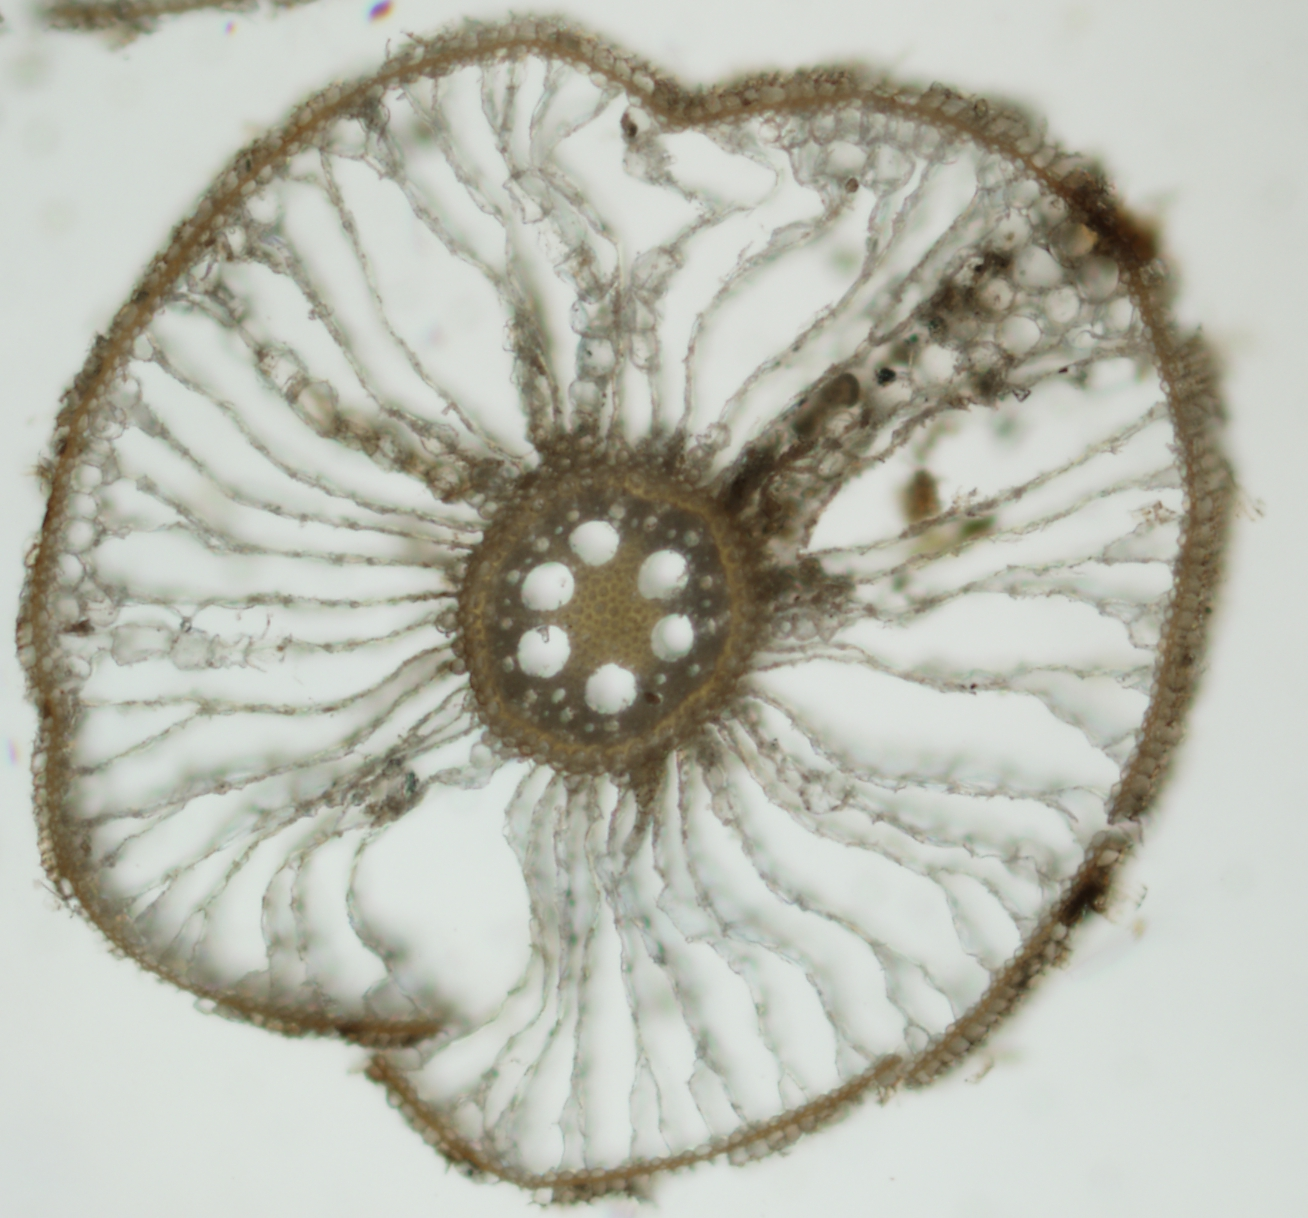lm: (517, 624, 571, 679), (584, 662, 637, 715), (637, 549, 691, 601), (520, 562, 574, 612), (568, 520, 620, 567), (650, 612, 693, 663)
